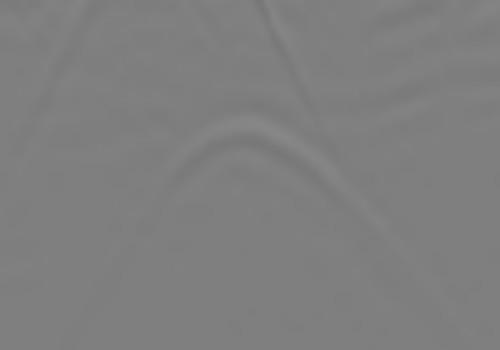Hyperbola: (71, 73, 413, 323)
